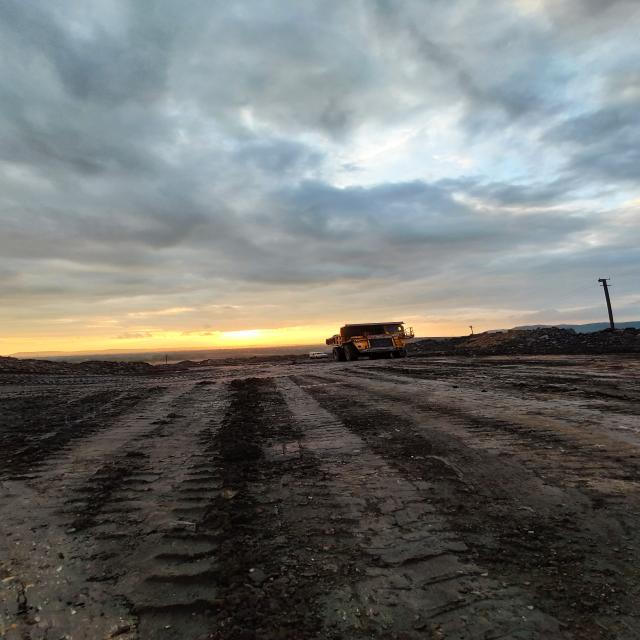dump_truck: (327, 321, 413, 361)
light_vehicle: (309, 351, 329, 359)
